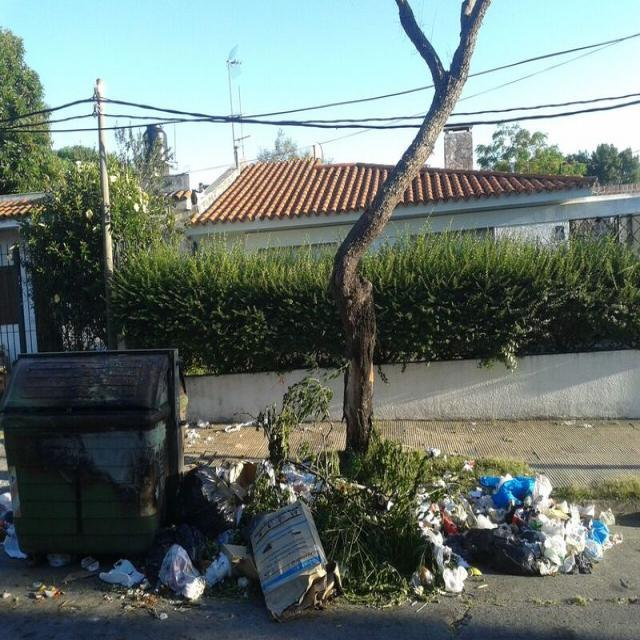garbage: (0, 466, 605, 622), (0, 413, 253, 511)
